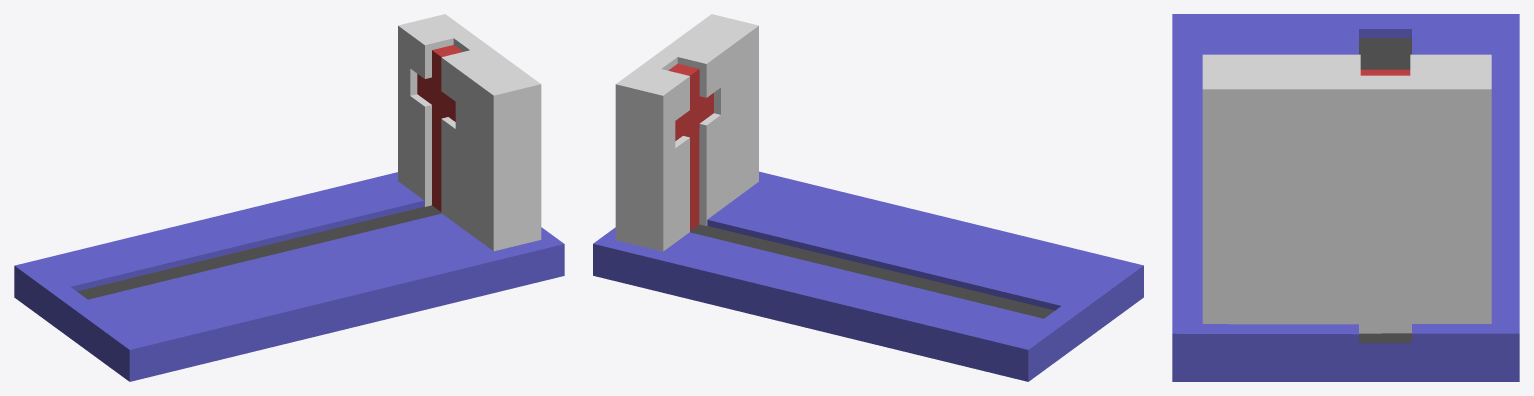
File: Lapida_1.fbx
3 renders of one model, left to right at view 1: azimuth 30°, elevation 25°; view 2: azimuth 150°, elevation 25°; view 3: azimuth 270°, elevation 25°, orthographic. The views are drawn at different scales.
Visible parts, largest first — view 1: pCube17, pCube18; view 2: pCube17, pCube18; view 3: pCube18, pCube17.
Part boxes in pixels (x1,y1,x2,y2): pCube17: (14, 172, 564, 381); pCube18: (398, 14, 541, 251); pCube17: (593, 171, 1143, 381); pCube18: (615, 14, 758, 251); pCube18: (1202, 54, 1491, 333); pCube17: (1172, 14, 1519, 381).
Bounding box in the file's own units: 8.68 × 3.58 × 3.99.
